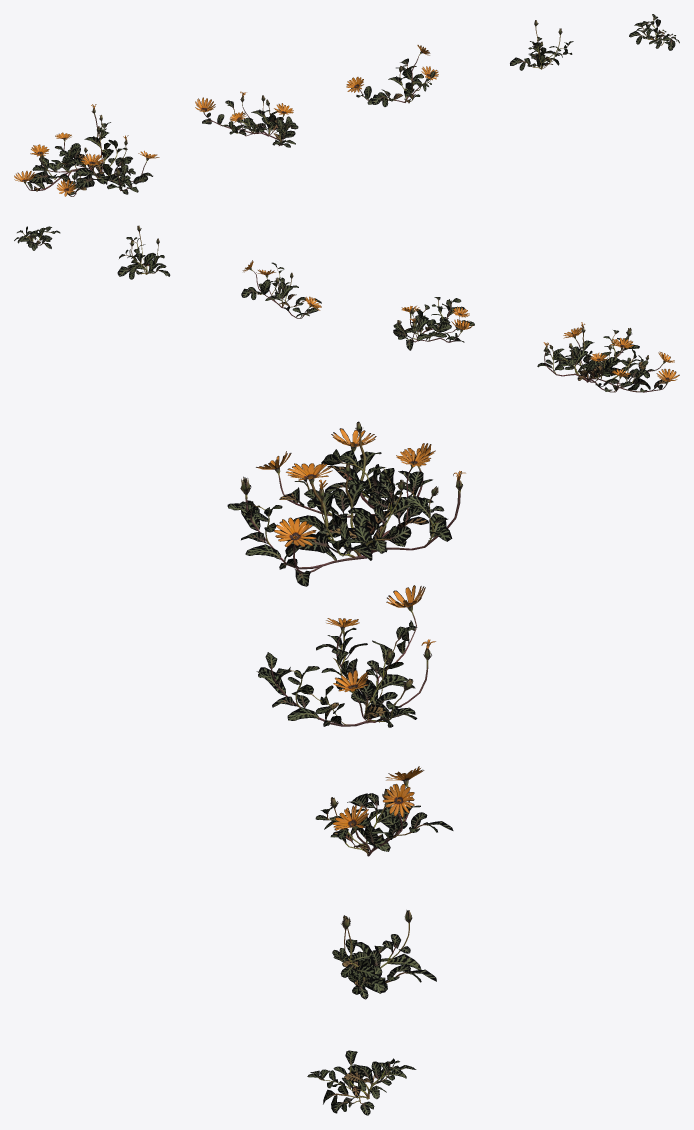
The model's file is flower_ursinia.glb.
3 views of the same model, one above another, from view 1: azimuth 30°, elevation 25°; view 2: azimuth 150°, elevation 25°; view 3: azimuth 270°, elevation 25° (orthographic). The views are drawn at different scales.
Parts seen in each view (by area): view 1: flower_ursinia_a_LOD0, flower_ursinia_b_LOD0, flower_ursinia_c_LOD0, flower_ursinia_d_LOD0, flower_ursinia_e_LOD0; view 2: flower_ursinia_a_LOD0, flower_ursinia_b_LOD0, flower_ursinia_c_LOD0, flower_ursinia_d_LOD0, flower_ursinia_e_LOD0; view 3: flower_ursinia_a_LOD0, flower_ursinia_b_LOD0, flower_ursinia_c_LOD0, flower_ursinia_d_LOD0, flower_ursinia_e_LOD0.
Boxes of the visible parts, left/top/right/bottom form: flower_ursinia_a_LOD0: left=14, top=104, right=159, bottom=196; flower_ursinia_b_LOD0: left=195, top=91, right=298, bottom=147; flower_ursinia_c_LOD0: left=346, top=45, right=438, bottom=106; flower_ursinia_d_LOD0: left=510, top=20, right=573, bottom=70; flower_ursinia_e_LOD0: left=629, top=14, right=679, bottom=50; flower_ursinia_a_LOD0: left=537, top=322, right=679, bottom=392; flower_ursinia_b_LOD0: left=393, top=297, right=474, bottom=350; flower_ursinia_c_LOD0: left=241, top=260, right=321, bottom=318; flower_ursinia_d_LOD0: left=117, top=225, right=170, bottom=279; flower_ursinia_e_LOD0: left=14, top=226, right=60, bottom=250; flower_ursinia_a_LOD0: left=227, top=421, right=465, bottom=586; flower_ursinia_b_LOD0: left=256, top=585, right=435, bottom=727; flower_ursinia_c_LOD0: left=315, top=766, right=453, bottom=856; flower_ursinia_d_LOD0: left=332, top=910, right=436, bottom=999; flower_ursinia_e_LOD0: left=307, top=1050, right=416, bottom=1115.
Bounding box in the file's own units: 2.19 × 0.1718 × 0.3433.
1 material, 1 textured.
